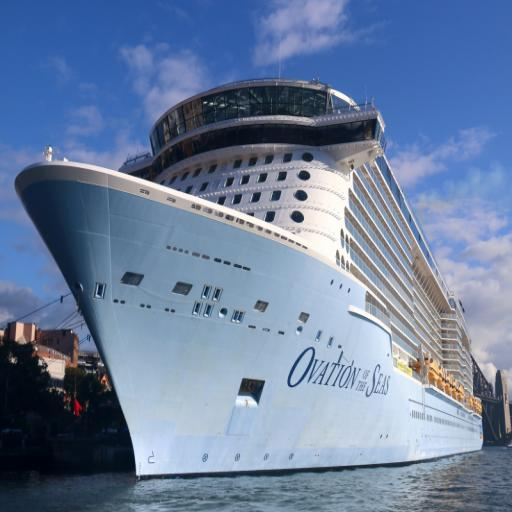cruises: (13, 53, 488, 485)
